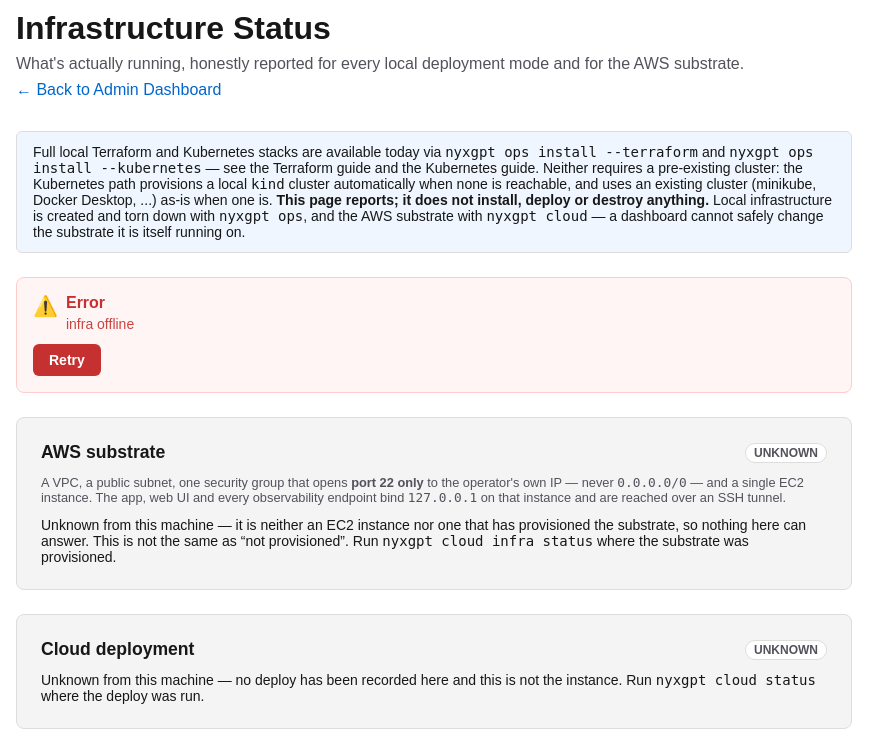
it: InfrastructurePage › walks every load-status error branch, then falls back to String(e) on a non-Error rejection
Expected: the text "infra offline" is shown, [66,316,134,332]
Click the button "Retry" at (67, 360), box [33,344,101,376]
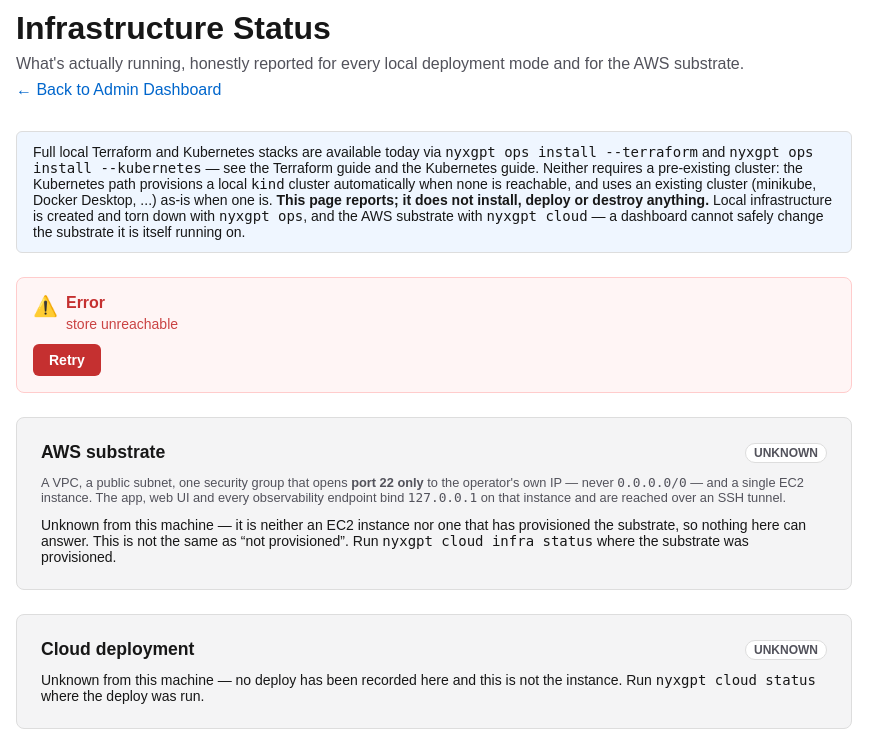
Now the text "store unreachable" is shown, box [66,316,178,332]
Click the button "Retry" at (67, 360), box [33,344,101,376]
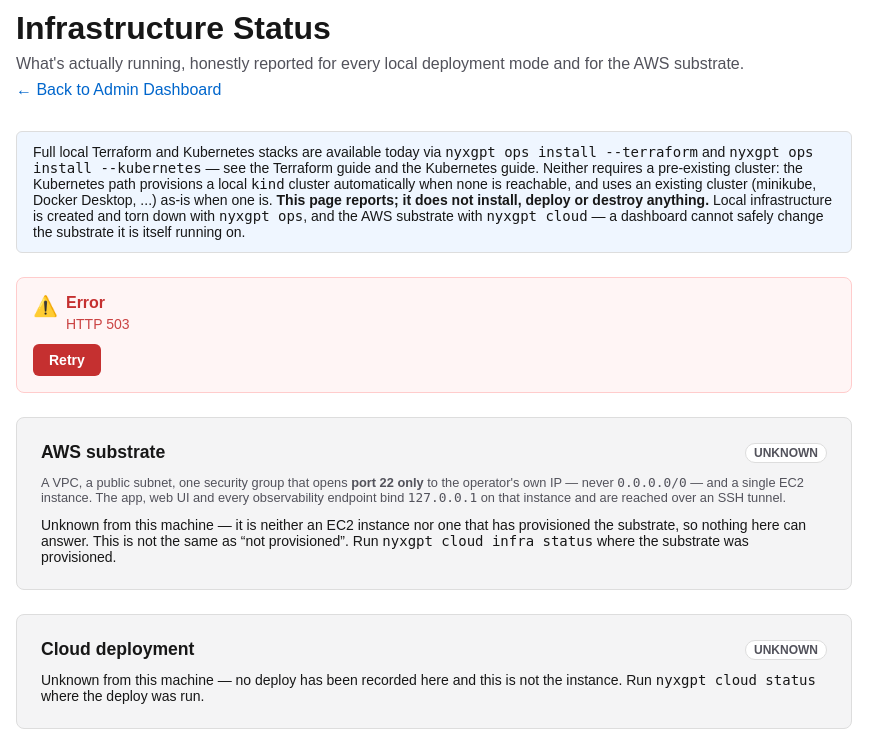
Now the text "HTTP 503" is shown, box [66,316,130,332]
Click the button "Retry" at (67, 360), box [33,344,101,376]
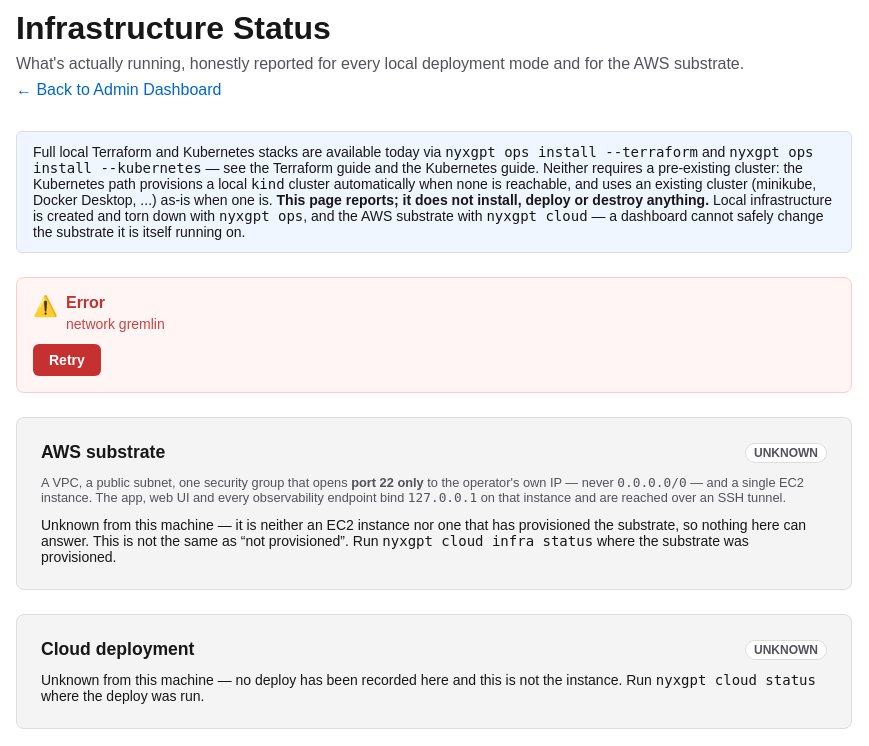
Now the text "network gremlin" is shown, box [66,316,165,332]
